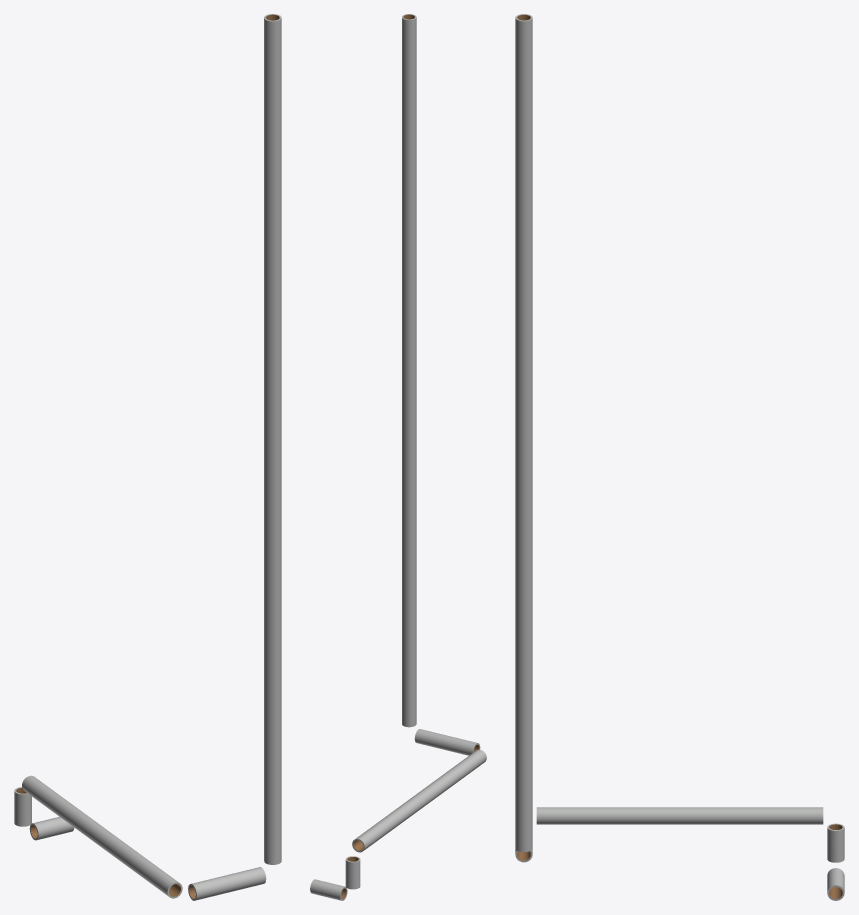
File: pipes_supply__softener-yes_and_plumbing-galvanized__r4t.glb
3 renders of one model, left to right at view 1: azimuth 30°, elevation 25°; view 2: azimuth 150°, elevation 25°; view 3: azimuth 270°, elevation 25°, orthographic. The views are drawn at different scales.
Parts seen in each view (by area): view 1: pipe_supply_softener_feed__galvanized; view 2: pipe_supply_softener_feed__galvanized; view 3: pipe_supply_softener_feed__galvanized.
Part boxes in pixels (bbox=[...]): pipe_supply_softener_feed__galvanized: bbox=[14, 14, 281, 900]; pipe_supply_softener_feed__galvanized: bbox=[310, 14, 486, 900]; pipe_supply_softener_feed__galvanized: bbox=[515, 14, 844, 900].
Bounding box in the file's own units: 0.1868 × 1.54 × 0.5067.
